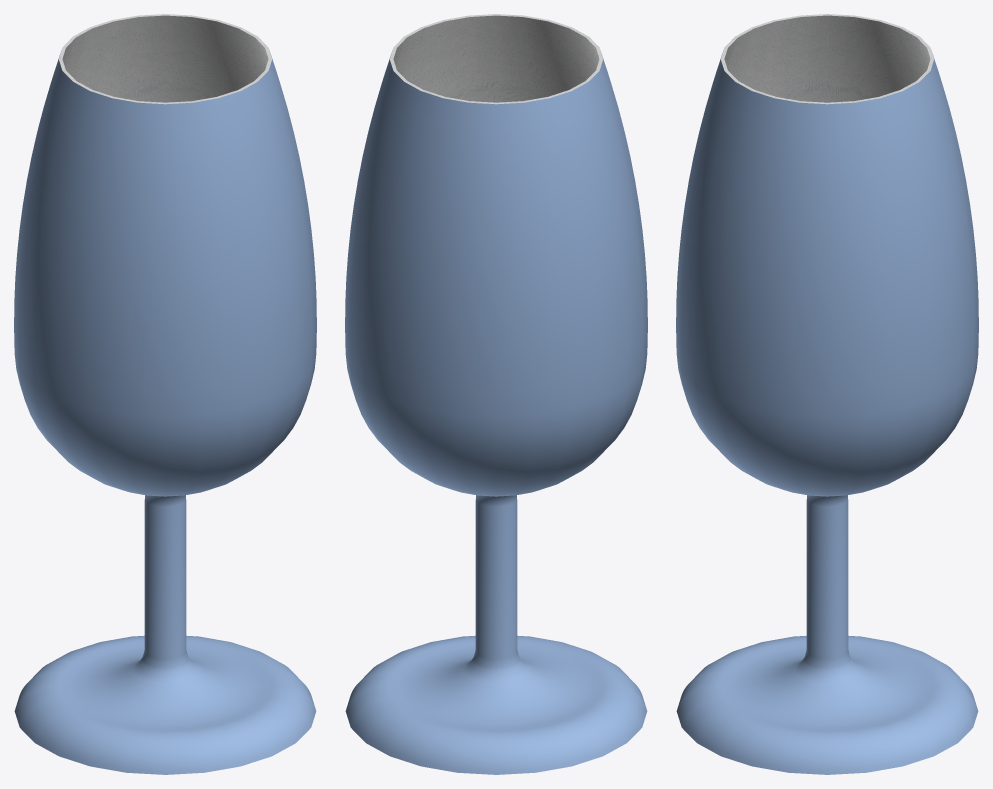
3 renders of one model, left to right at view 1: azimuth 30°, elevation 25°; view 2: azimuth 150°, elevation 25°; view 3: azimuth 270°, elevation 25°, orthographic.
Visible parts, largest first — view 1: SketchUp, SketchUp_001, SketchUp_002; view 2: SketchUp, SketchUp_001, SketchUp_002; view 3: SketchUp, SketchUp_001, SketchUp_002.
Part boxes in pixels (x1,y1,x2,y2): SketchUp: (14,54,316,774); SketchUp_001: (62,15,268,102); SketchUp_002: (59,14,271,104); SketchUp: (345,54,647,774); SketchUp_001: (393,15,599,102); SketchUp_002: (390,14,602,104); SketchUp: (676,54,978,774); SketchUp_001: (724,15,930,102); SketchUp_002: (721,14,933,104).
Size of the model in its own units: 0.0652 by 0.0652 by 0.155.
